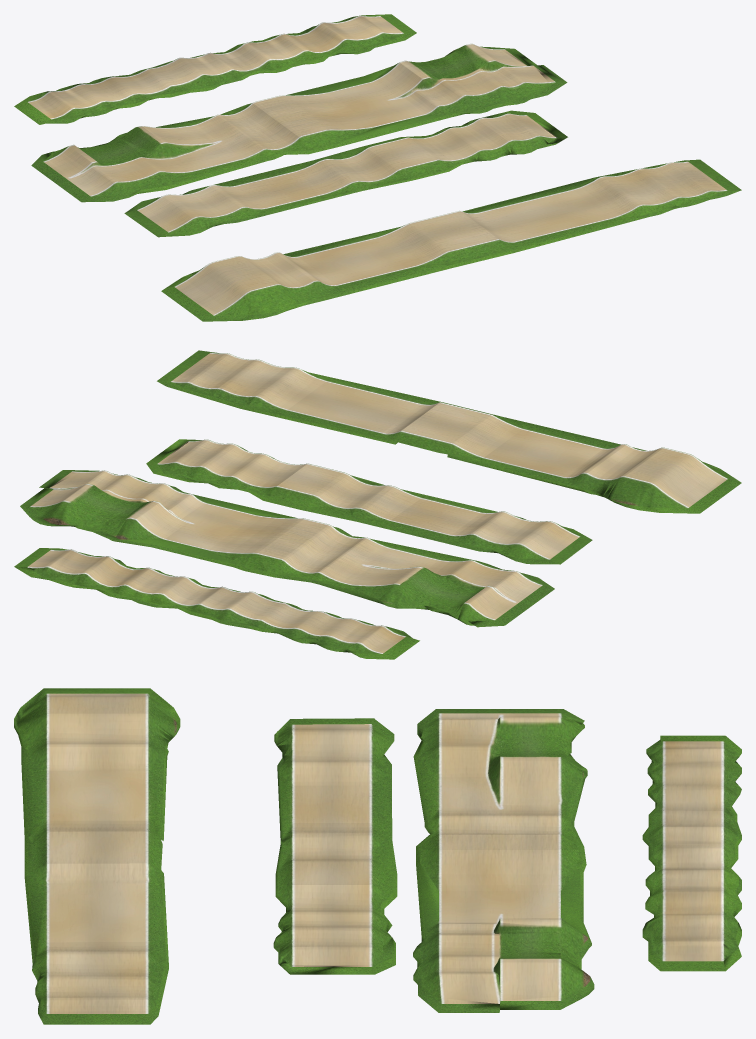
The model's file is ramps.fbx.
The picture shows the model from 3 angles, top to bottom: view 1: azimuth 30°, elevation 25°; view 2: azimuth 150°, elevation 25°; view 3: azimuth 270°, elevation 25°; orthographic projection. The views are drawn at different scales.
Parts seen in each view (by area): view 1: model_11.003, model_11.004, model_11.002, model_11.001; view 2: model_11.003, model_11.004, model_11.002, model_11.001; view 3: model_11.003, model_11.004, model_11.002, model_11.001.
Part boxes in pixels (x1,y1,x2,y2): model_11.003: [31, 43, 567, 202]; model_11.004: [161, 159, 741, 321]; model_11.002: [124, 110, 567, 237]; model_11.001: [14, 14, 416, 124]; model_11.003: [20, 470, 554, 627]; model_11.004: [157, 350, 741, 513]; model_11.002: [146, 439, 592, 564]; model_11.001: [14, 548, 419, 659]; model_11.003: [413, 709, 594, 1012]; model_11.004: [14, 688, 180, 1024]; model_11.002: [273, 718, 397, 974]; model_11.001: [642, 735, 741, 971].
Bounding box in the file's own units: 1031 × 32.89 × 944.
1 material, 1 textured.
